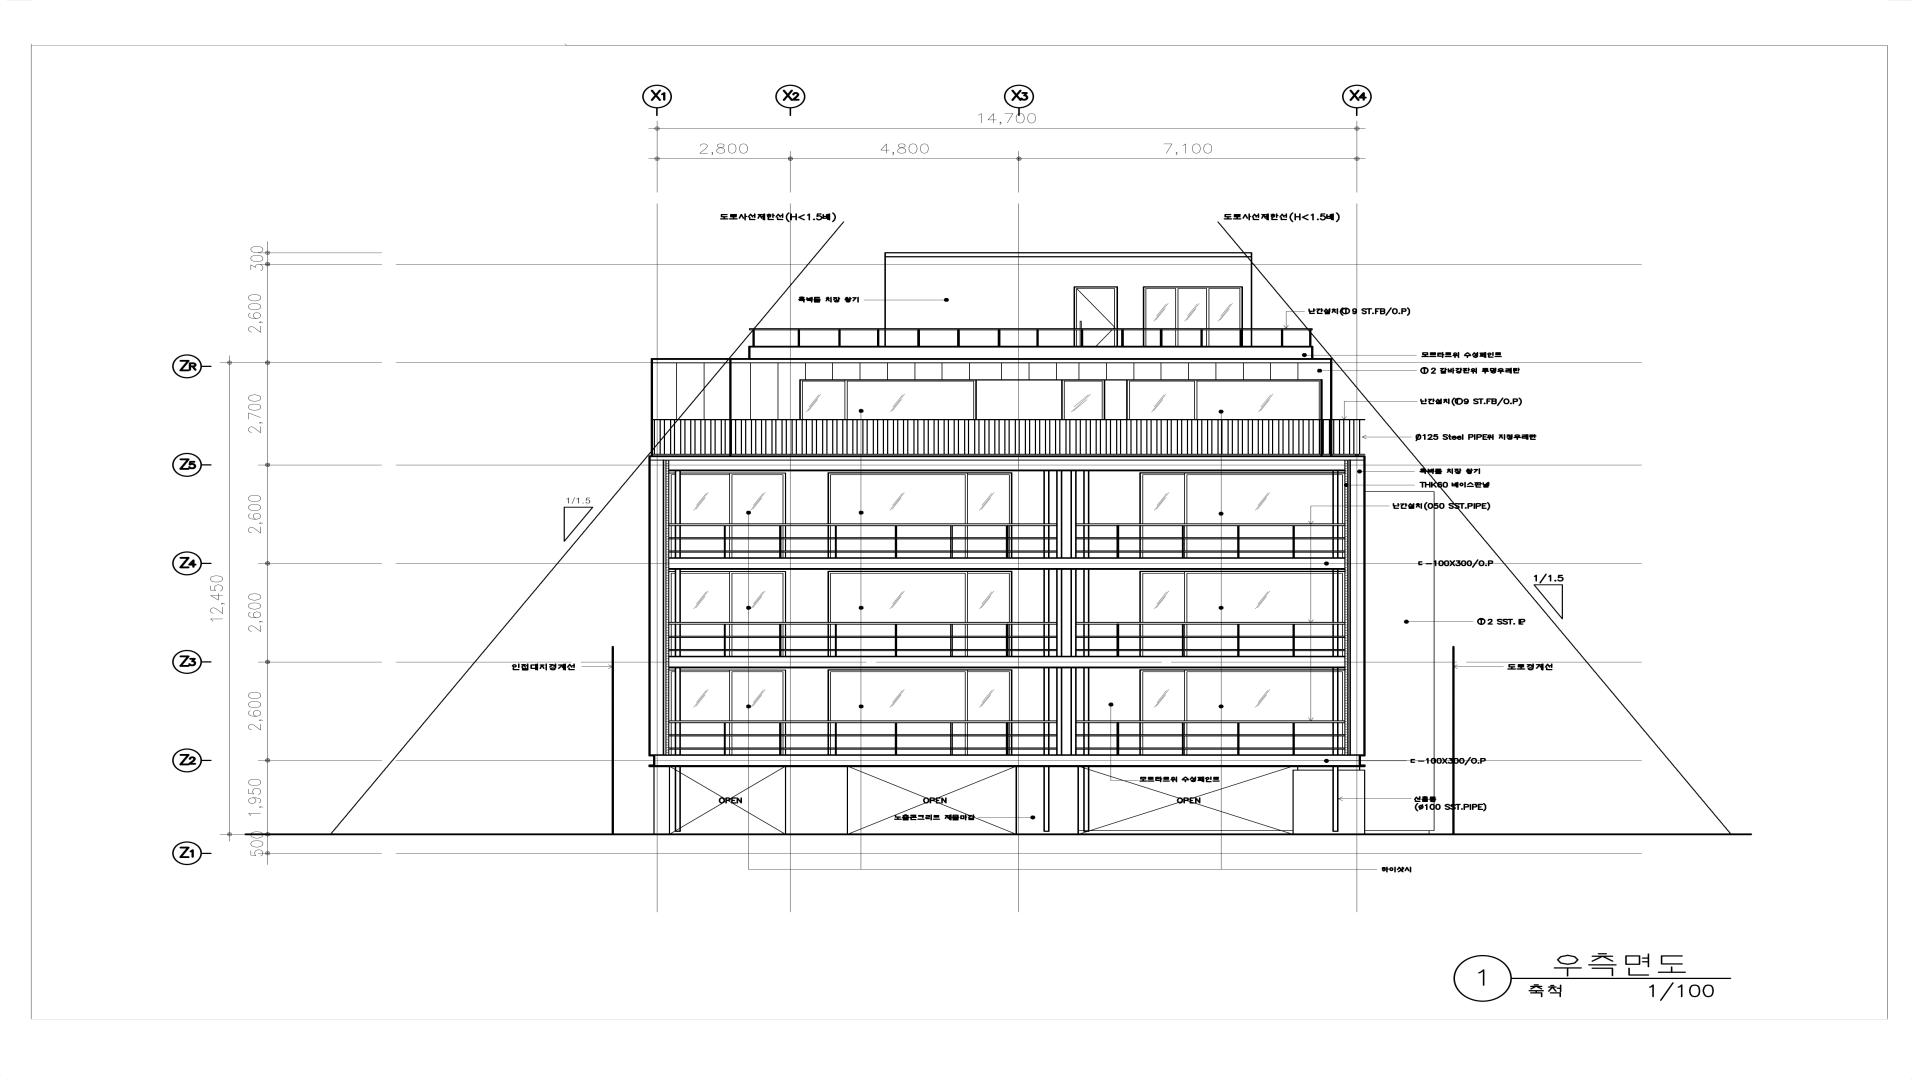door: (1294, 770, 1365, 835), (1073, 287, 1118, 347)
wall: (649, 252, 1366, 836)
window: (1141, 472, 1345, 559), (1141, 570, 1345, 657), (1139, 669, 1344, 756), (827, 571, 1013, 658), (827, 669, 1013, 756), (828, 472, 1013, 559), (1077, 766, 1292, 833), (847, 767, 1017, 835), (669, 472, 786, 559), (669, 571, 786, 658), (669, 670, 786, 754), (671, 766, 791, 835), (799, 378, 977, 419), (1143, 286, 1242, 347), (1126, 380, 1197, 419), (1062, 380, 1105, 419)
